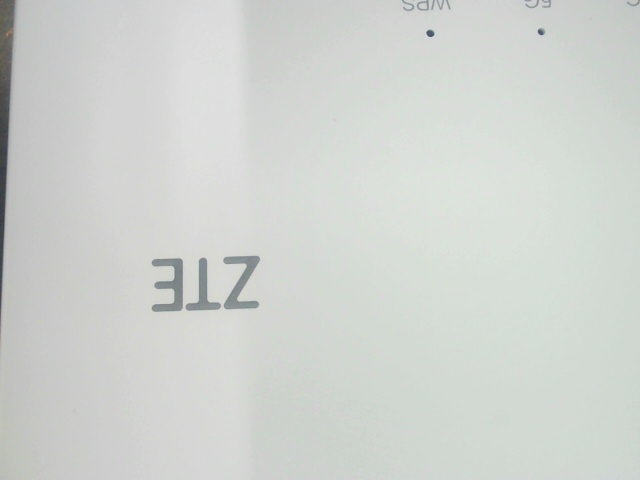AO_ZTESmall: (131, 233, 278, 330)
